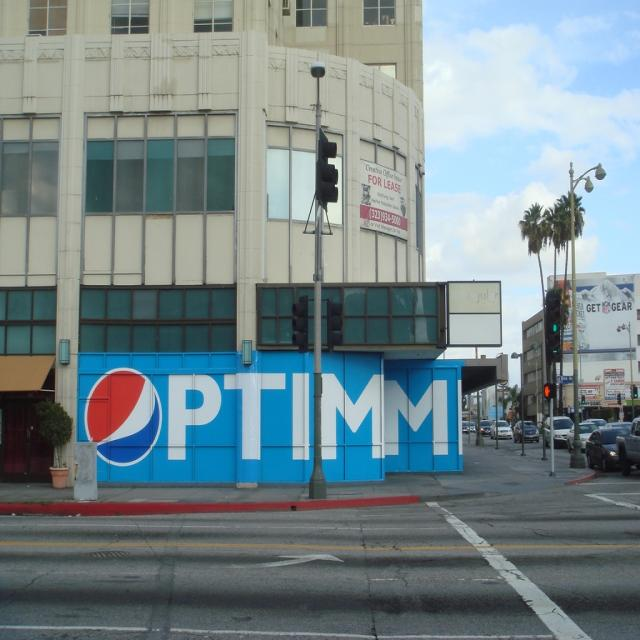pepsi: (82, 365, 168, 470)
